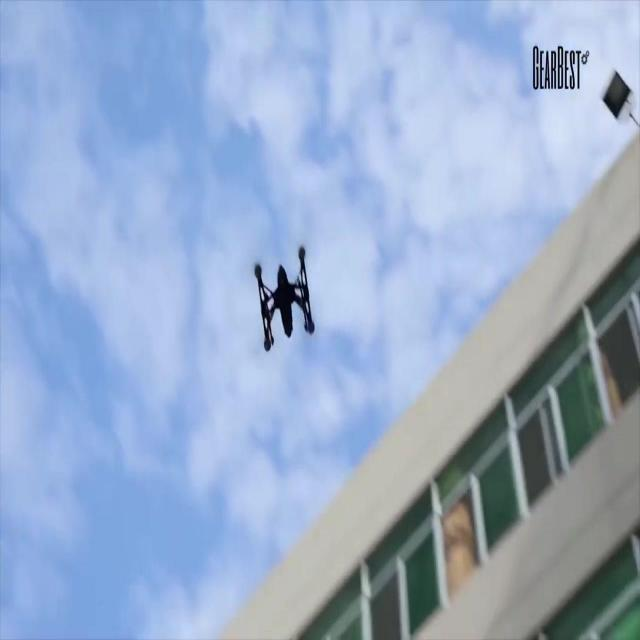UAV: (254, 245, 314, 351)
